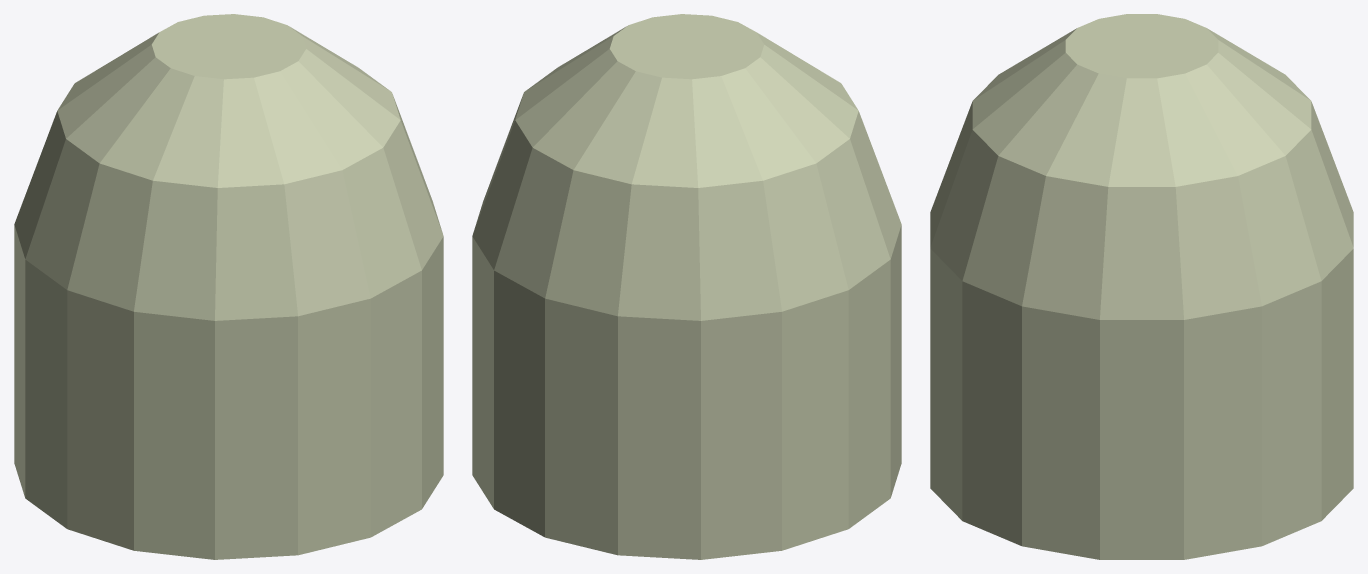
The model's file is Alnair_Control_1_Collider.obj.
3 renders of one model, left to right at view 1: azimuth 30°, elevation 25°; view 2: azimuth 150°, elevation 25°; view 3: azimuth 270°, elevation 25°, orthographic.
Parts seen in each view (by area): view 1: Alnair_Control_1_Collider; view 2: Alnair_Control_1_Collider; view 3: Alnair_Control_1_Collider.
Boxes of the visible parts, x1,y1,x2,y2 form: Alnair_Control_1_Collider: (14,14,443,559); Alnair_Control_1_Collider: (472,14,901,559); Alnair_Control_1_Collider: (930,14,1353,559).
Bounding box in the file's own units: 0.5 × 0.5525 × 0.5.
